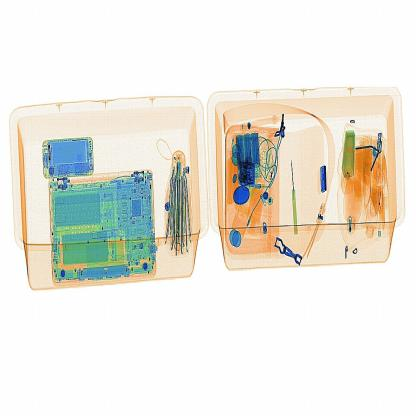wrench: (286, 154, 305, 236)
